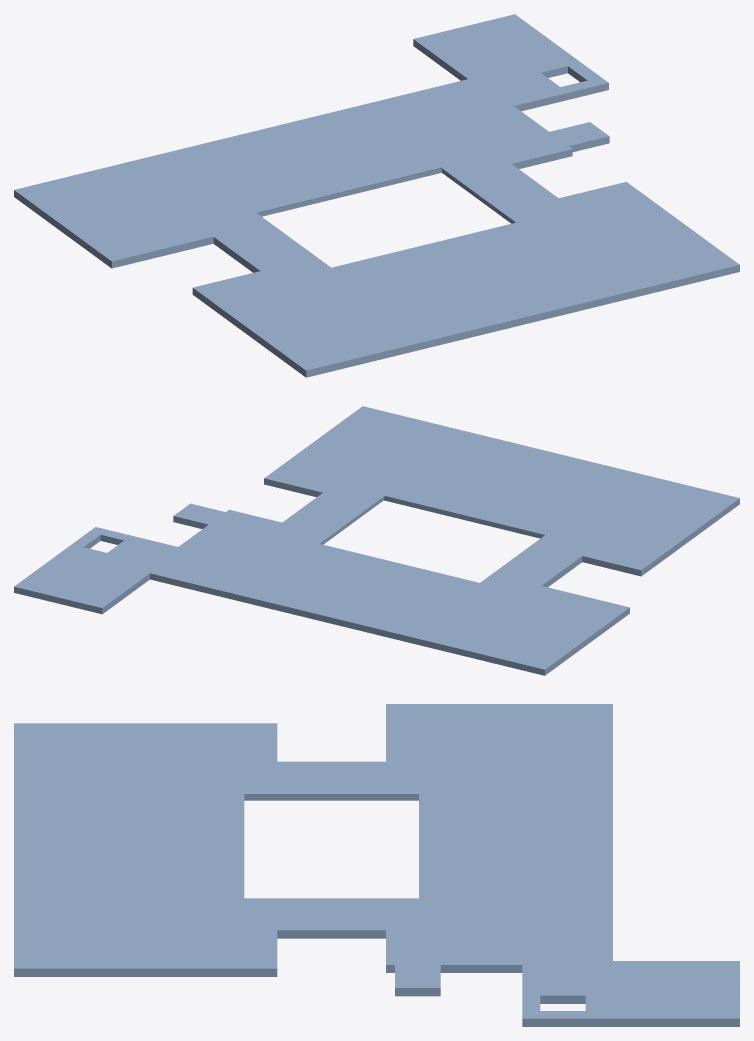
Rendered from Floor01_tops.fbx.
3 renders of one model, top to bottom at view 1: azimuth 30°, elevation 25°; view 2: azimuth 150°, elevation 25°; view 3: azimuth 270°, elevation 25°, orthographic. The views are drawn at different scales.
Parts seen in each view (by area): view 1: Ignacios_Room, polySurface29, Hallway30, polySurface1, Hallway38, Hallway33, Hallway31, Hallway28, Treim_floorbalcomy, polySurface786; view 2: Ignacios_Room, polySurface29, Hallway30, polySurface1, Hallway38, Hallway31, Hallway33, Hallway28, Treim_floorbalcomy, polySurface786; view 3: Ignacios_Room, Hallway30, polySurface29, polySurface1, Hallway38, Hallway31, Hallway33, Hallway28, Treim_floorbalcomy, polySurface786.
Boxes of the visible parts, x1,y1,x2,y2 form: Ignacios_Room: [192, 182, 739, 377]; polySurface29: [14, 135, 287, 268]; Hallway30: [167, 129, 609, 308]; polySurface1: [292, 79, 572, 168]; Hallway38: [413, 14, 608, 111]; Hallway33: [221, 143, 441, 216]; Hallway31: [331, 223, 554, 294]; Hallway28: [238, 122, 342, 172]; Treim_floorbalcomy: [252, 165, 519, 269]; polySurface786: [543, 122, 609, 151]; Ignacios_Room: [264, 406, 739, 576]; polySurface29: [350, 586, 629, 675]; Hallway30: [241, 460, 625, 615]; polySurface1: [150, 509, 346, 616]; Hallway38: [14, 527, 182, 614]; Hallway31: [384, 472, 578, 538]; Hallway33: [289, 544, 480, 603]; Hallway28: [303, 578, 393, 628]; Treim_floorbalcomy: [316, 494, 548, 584]; polySurface786: [173, 503, 230, 528]; Ignacios_Room: [14, 723, 277, 976]; Hallway30: [159, 761, 494, 938]; polySurface29: [386, 704, 612, 830]; polySurface1: [386, 861, 612, 972]; Hallway38: [522, 961, 739, 1026]; Hallway31: [159, 792, 240, 899]; Hallway33: [422, 792, 494, 899]; Hallway28: [495, 830, 612, 861]; Treim_floorbalcomy: [241, 792, 422, 899]; polySurface786: [395, 961, 440, 996].
Size of the model in its own units: 4100 by 50 by 4000.
